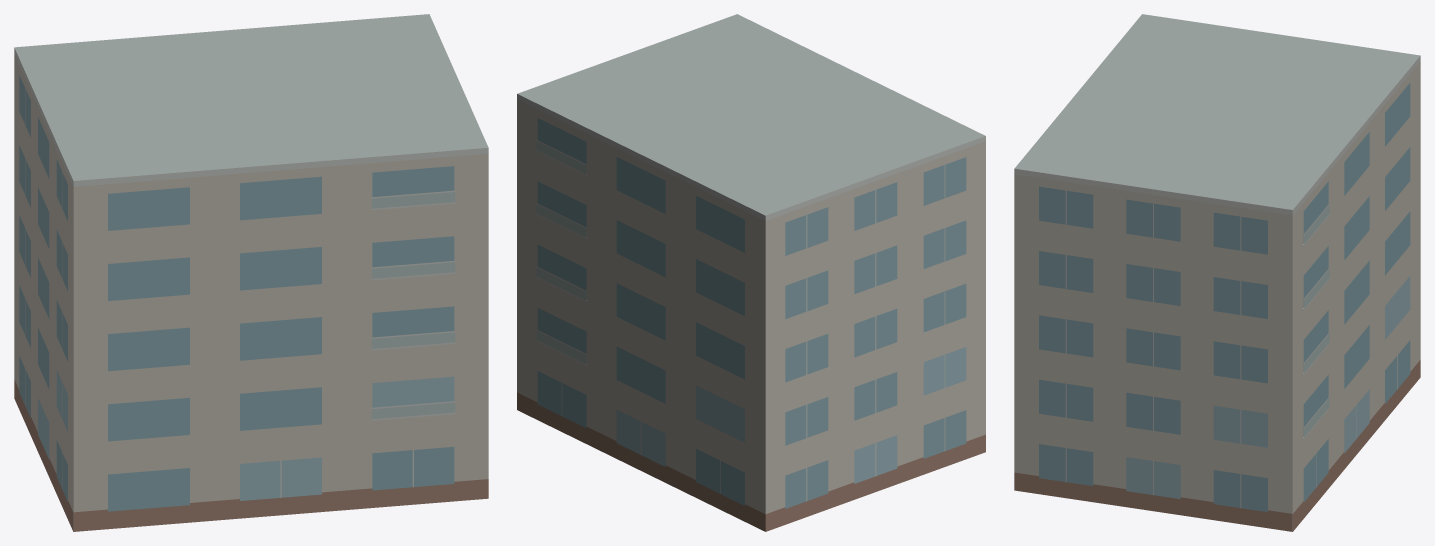
The model's file is survey-upis-33015735.glb.
3 views of the same model, side by side, from view 1: azimuth 30°, elevation 25°; view 2: azimuth 150°, elevation 25°; view 3: azimuth 270°, elevation 25° (orthographic). The views are drawn at different scales.
Parts seen in each view (by area): view 1: survey-upis-33015735.tmp; view 2: survey-upis-33015735.tmp; view 3: survey-upis-33015735.tmp.
Boxes of the visible parts, x1,y1,x2,y2 form: survey-upis-33015735.tmp: [14, 14, 488, 531]; survey-upis-33015735.tmp: [517, 14, 985, 531]; survey-upis-33015735.tmp: [1014, 14, 1420, 531].
Bounding box in the file's own units: 18.83 × 14.4 × 16.49.
